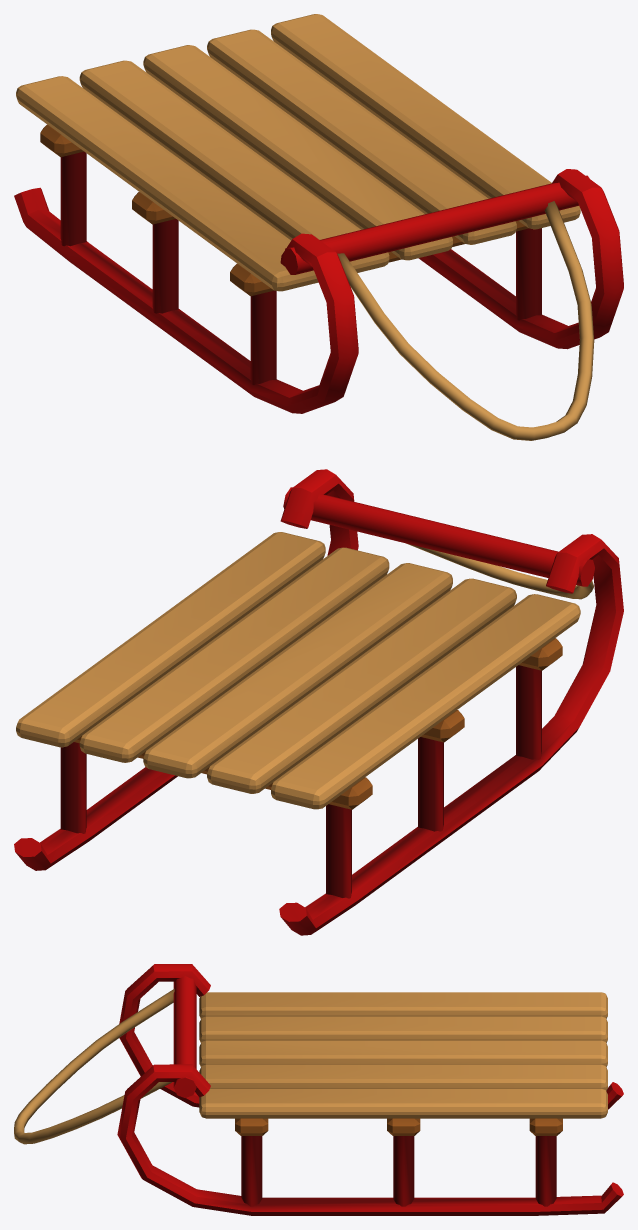
Rendered from Sled.fbx.
3 renders of one model, top to bottom at view 1: azimuth 30°, elevation 25°; view 2: azimuth 150°, elevation 25°; view 3: azimuth 270°, elevation 25°, orthographic. The views are drawn at different scales.
Parts seen in each view (by area): view 1: Sled; view 2: Sled; view 3: Sled.
Part boxes in pixels (x1=…): Sled: x1=14, y1=14, x2=623, y2=440; Sled: x1=14, y1=469, x2=623, y2=935; Sled: x1=14, y1=964, x2=623, y2=1215.
Bounding box in the file's own units: 0.6 × 0.3447 × 1.28.
